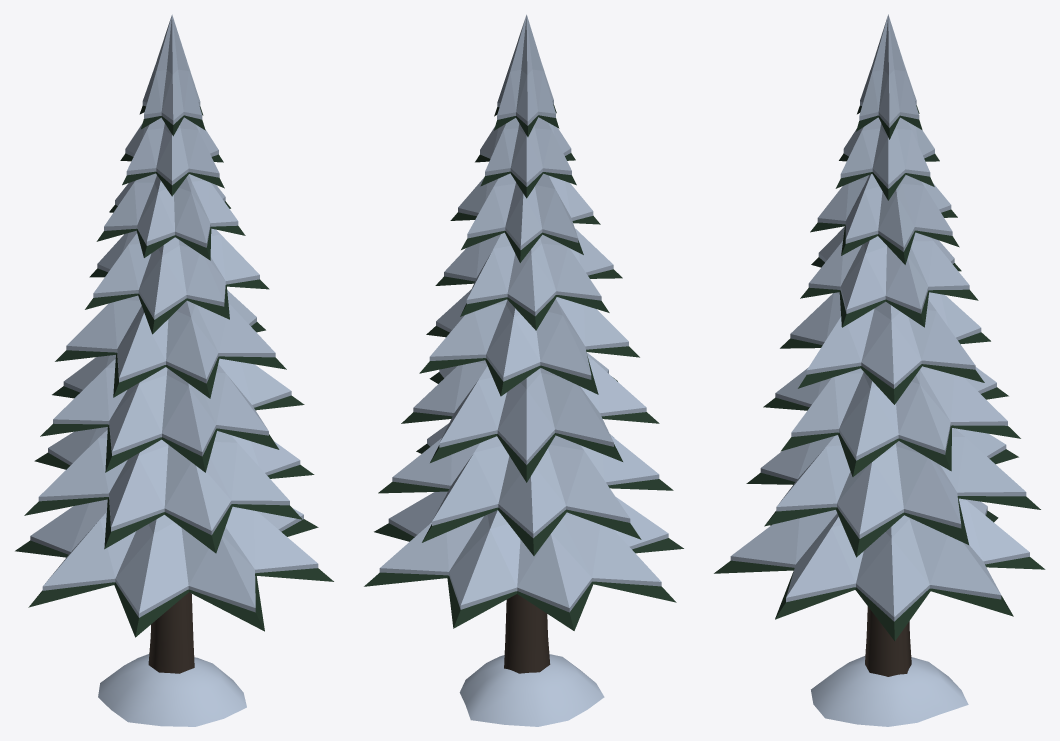
File: pine_d.glb
3 renders of one model, left to right at view 1: azimuth 30°, elevation 25°; view 2: azimuth 150°, elevation 25°; view 3: azimuth 270°, elevation 25°, orthographic.
Visible parts, largest first — view 1: Tree; view 2: Tree; view 3: Tree.
Part boxes in pixels (x1,y1,x2,y2): Tree: [15, 14, 333, 726]; Tree: [364, 14, 683, 726]; Tree: [714, 14, 1045, 726].
Size of the model in its own units: 4.18 by 9.17 by 4.04.
